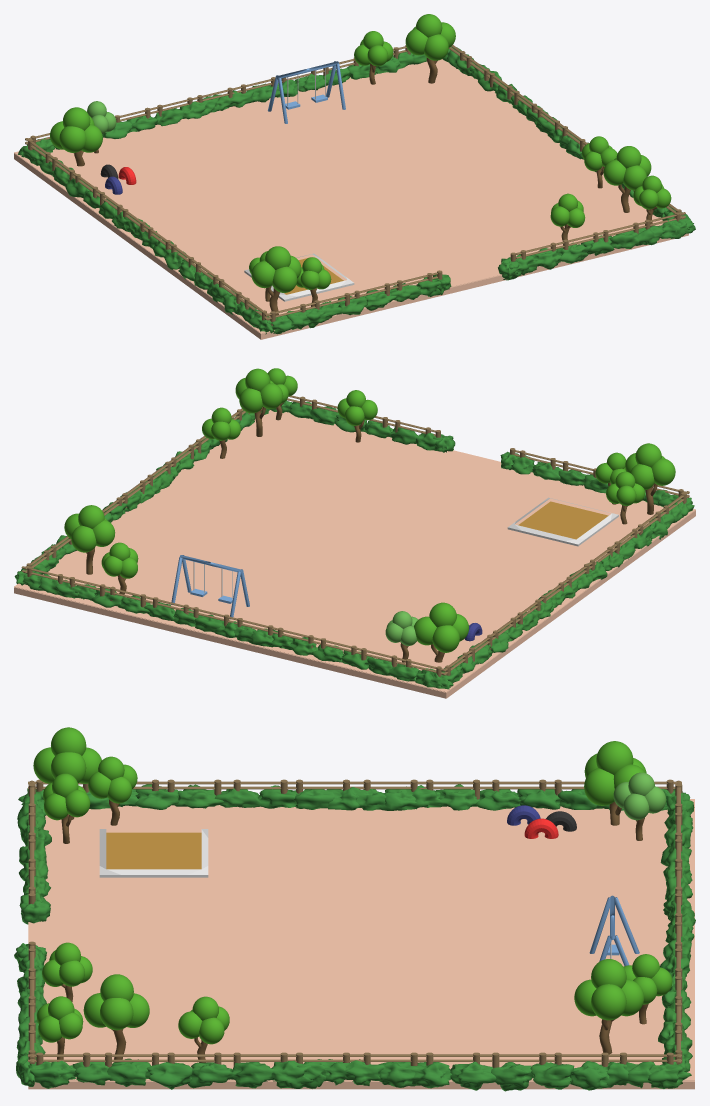
Rendered from park.glb.
The picture shows the model from 3 angles, top to bottom: view 1: azimuth 30°, elevation 25°; view 2: azimuth 150°, elevation 25°; view 3: azimuth 270°, elevation 25°; orthographic projection. The views are drawn at different scales.
Parts seen in each view (by area): view 1: field, wood_poles, Sphere.003, Sphere.001, Sphere, Sphere.002, tree.001, tree.002, tree, tree.007, swing, tree.010 (+6 smaller); view 2: field, wood_poles, Sphere.001, Sphere, Sphere.003, Sphere.002, tree.001, Plane, tree, tree.002, tree.007, swing (+8 smaller); view 3: field, Sphere.002, wood_poles, Sphere, Sphere.001, Sphere.003, Plane, tree, tree.007, tree.001, tree.002, tree.004 (+9 smaller).
Part boxes in pixels (bbox=[...]): field: bbox=[14, 59, 688, 339]; wood_poles: bbox=[25, 45, 685, 325]; Sphere.003: bbox=[263, 217, 695, 334]; Sphere.001: bbox=[18, 52, 426, 157]; Sphere: bbox=[22, 145, 274, 334]; Sphere.002: bbox=[442, 46, 690, 229]; tree.001: bbox=[50, 107, 102, 166]; tree.002: bbox=[251, 246, 301, 315]; tree: bbox=[405, 14, 455, 83]; tree.007: bbox=[603, 146, 651, 212]; swing: bbox=[267, 61, 345, 123]; tree.010: bbox=[354, 31, 393, 84]; field: bbox=[14, 410, 695, 698]; wood_poles: bbox=[21, 395, 689, 676]; Sphere.001: bbox=[22, 573, 453, 689]; Sphere: bbox=[439, 497, 694, 687]; Sphere.003: bbox=[270, 400, 680, 506]; Sphere.002: bbox=[14, 408, 269, 585]; tree.001: bbox=[414, 602, 468, 662]; Plane: bbox=[518, 501, 608, 539]; tree: bbox=[64, 505, 115, 574]; tree.002: bbox=[625, 443, 675, 514]; tree.007: bbox=[235, 368, 283, 436]; swing: bbox=[171, 555, 249, 619]; field: bbox=[28, 799, 694, 1089]; Sphere.002: bbox=[20, 1058, 691, 1091]; wood_poles: bbox=[28, 779, 682, 1068]; Sphere: bbox=[18, 784, 675, 810]; Sphere.001: bbox=[658, 790, 695, 1072]; Sphere.003: bbox=[14, 791, 51, 1086]; Plane: bbox=[106, 832, 201, 869]; tree: bbox=[574, 959, 643, 1054]; tree.007: bbox=[83, 974, 149, 1062]; tree.001: bbox=[584, 741, 646, 825]; tree.002: bbox=[33, 727, 101, 819]; tree.004: bbox=[613, 772, 666, 840].
Size of the model in its own units: 73.27 by 13.43 by 72.69.
